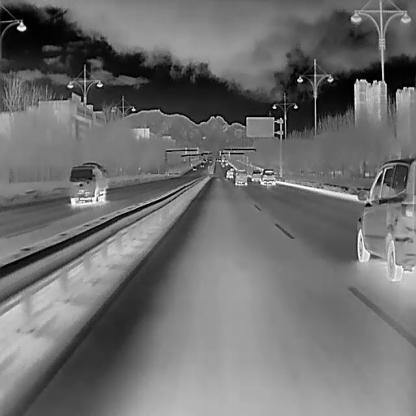car: (356, 157, 416, 280), (261, 168, 275, 186), (250, 169, 262, 181), (226, 169, 233, 178), (191, 166, 196, 170), (200, 162, 204, 167), (220, 164, 226, 167), (208, 158, 212, 162), (229, 166, 233, 170), (224, 162, 228, 165)
truck: (68, 160, 107, 206), (235, 167, 246, 186)
